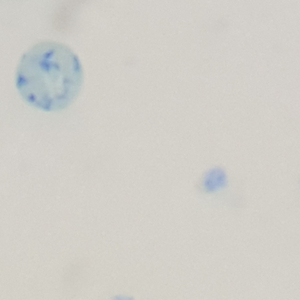aggregate reticulocyte: (13, 39, 87, 113)
